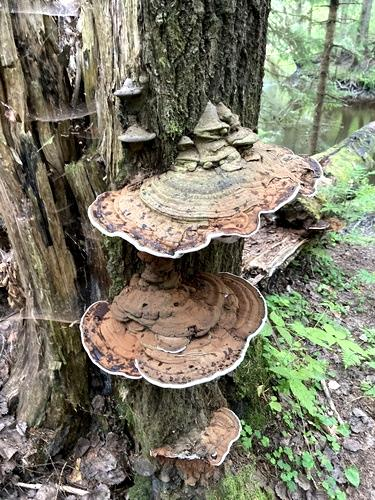Ganoderma - Fruit Body: (95, 136, 320, 258), (81, 271, 267, 388), (149, 410, 246, 469)
